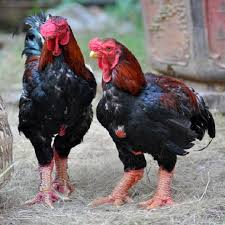Gà/Chicken: (82, 29, 225, 217), (9, 8, 107, 217)
